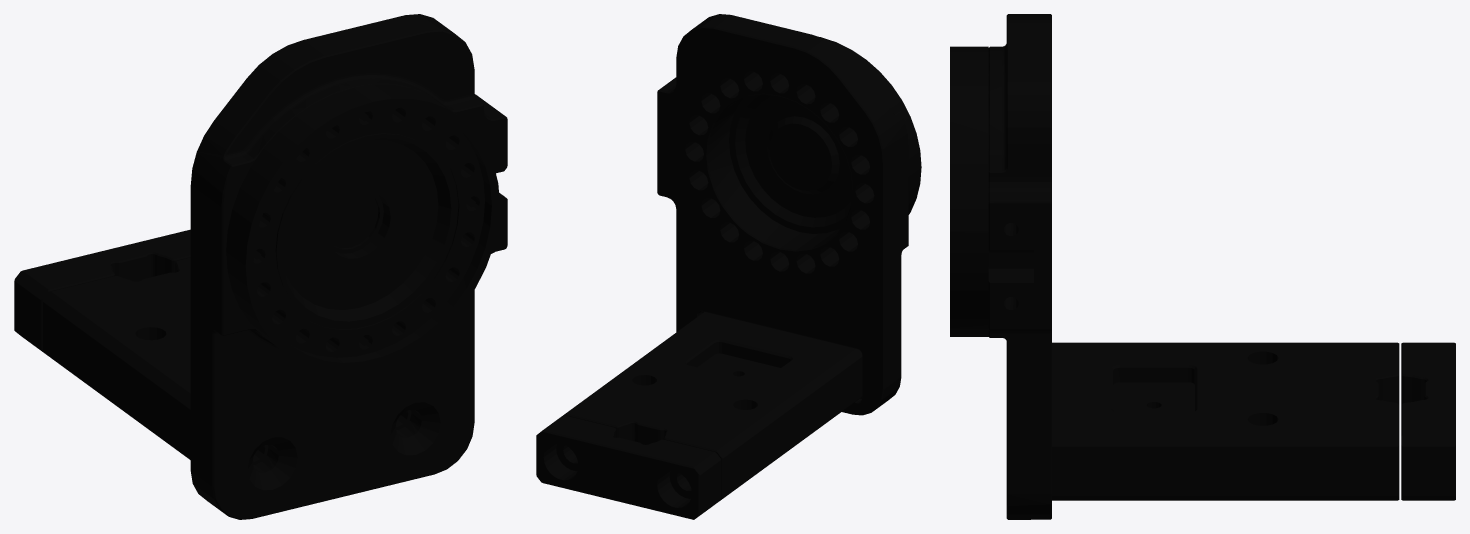
File: steer_motor_link1.usd.sapien.glb
3 renders of one model, left to right at view 1: azimuth 30°, elevation 25°; view 2: azimuth 150°, elevation 25°; view 3: azimuth 270°, elevation 25°, orthographic. The views are drawn at different scales.
Visible parts, largest first — view 1: steer_motor_link1; view 2: steer_motor_link1; view 3: steer_motor_link1.
Boxes of the visible parts, x1,y1,x2,y2 form: steer_motor_link1: (14, 14, 507, 519); steer_motor_link1: (536, 14, 921, 519); steer_motor_link1: (950, 14, 1455, 519).
Bounding box in the file's own units: 0.072 × 0.1072 × 0.1115.
1 material, 1 textured.
